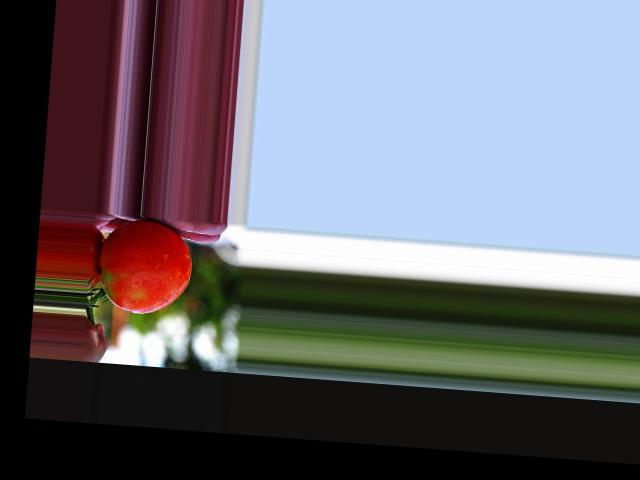tomato: (96, 217, 194, 317)
